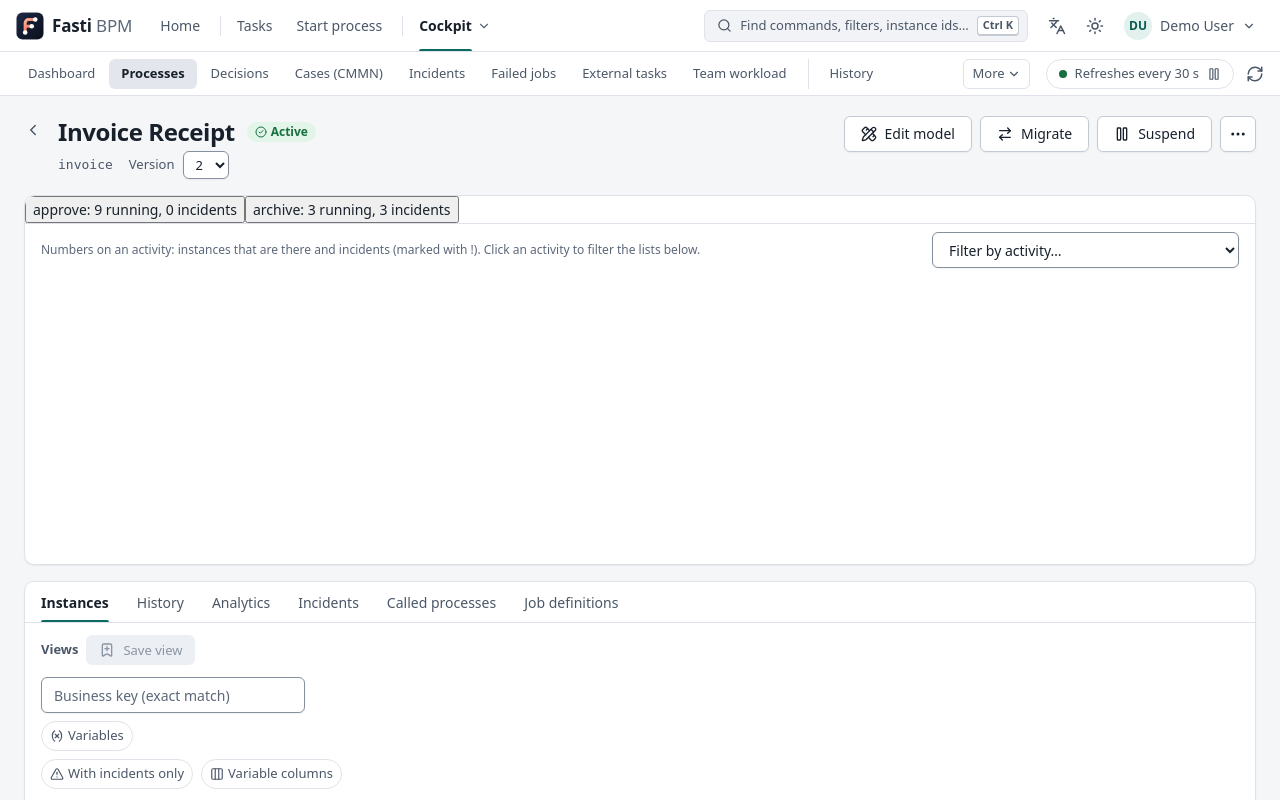
Test case: process definition › puts the numbers on the diagram and filters the instances by a clicked activity
Expected: the heading "Invoice Receipt" is shown, x1=58 y1=116 x2=235 y2=147
Click the button "archive: 3 running, 3 incidents" at (352, 210), box x1=245 y1=196 x2=459 y2=223
(page scrolled)
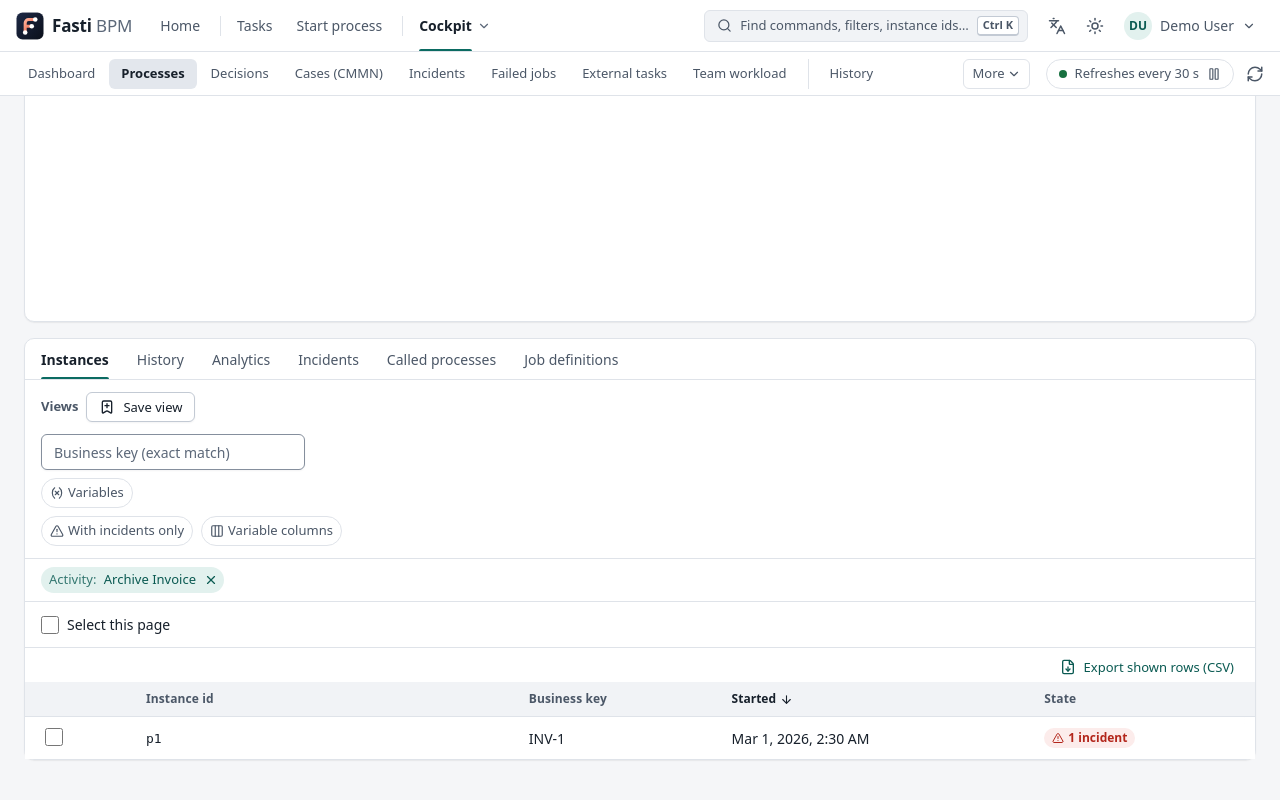
Expected: the list item "Archive Invoice" is shown, x1=104 y1=570 x2=196 y2=588
